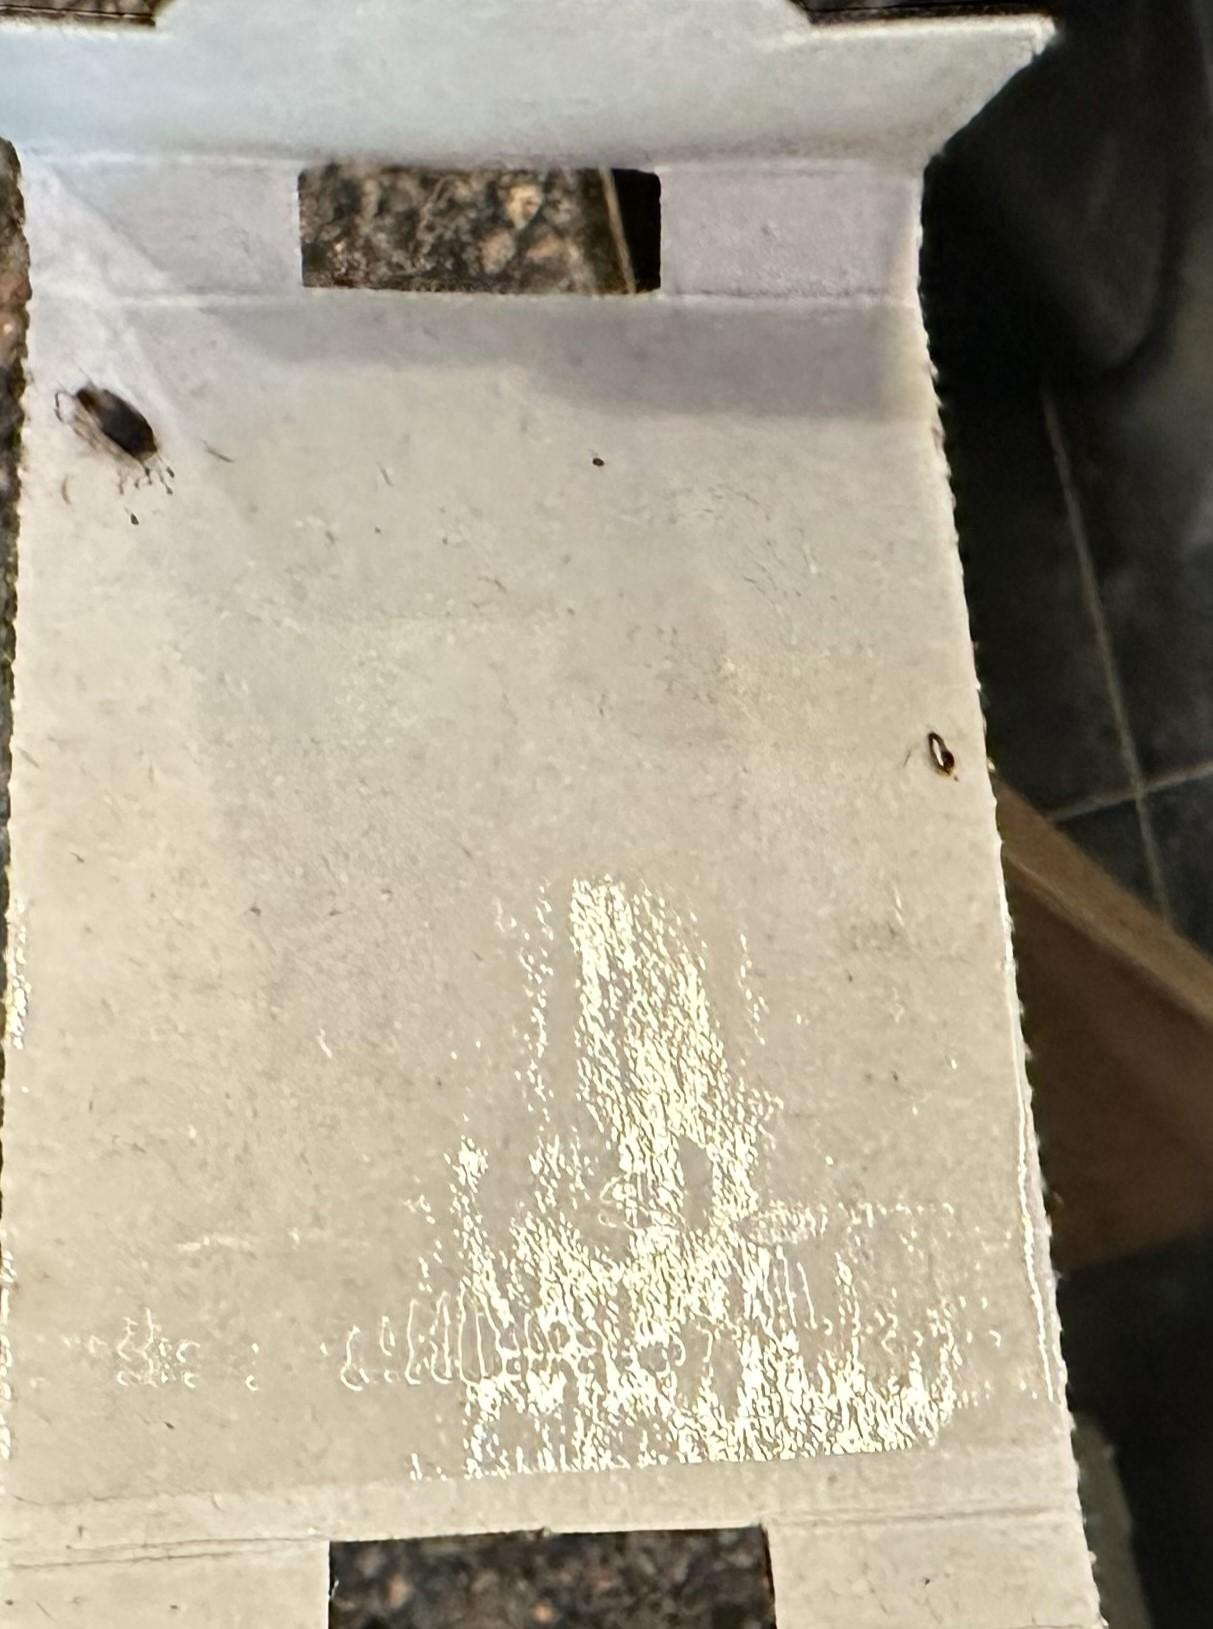cockroach: (33, 327, 241, 535), (887, 701, 991, 796)
